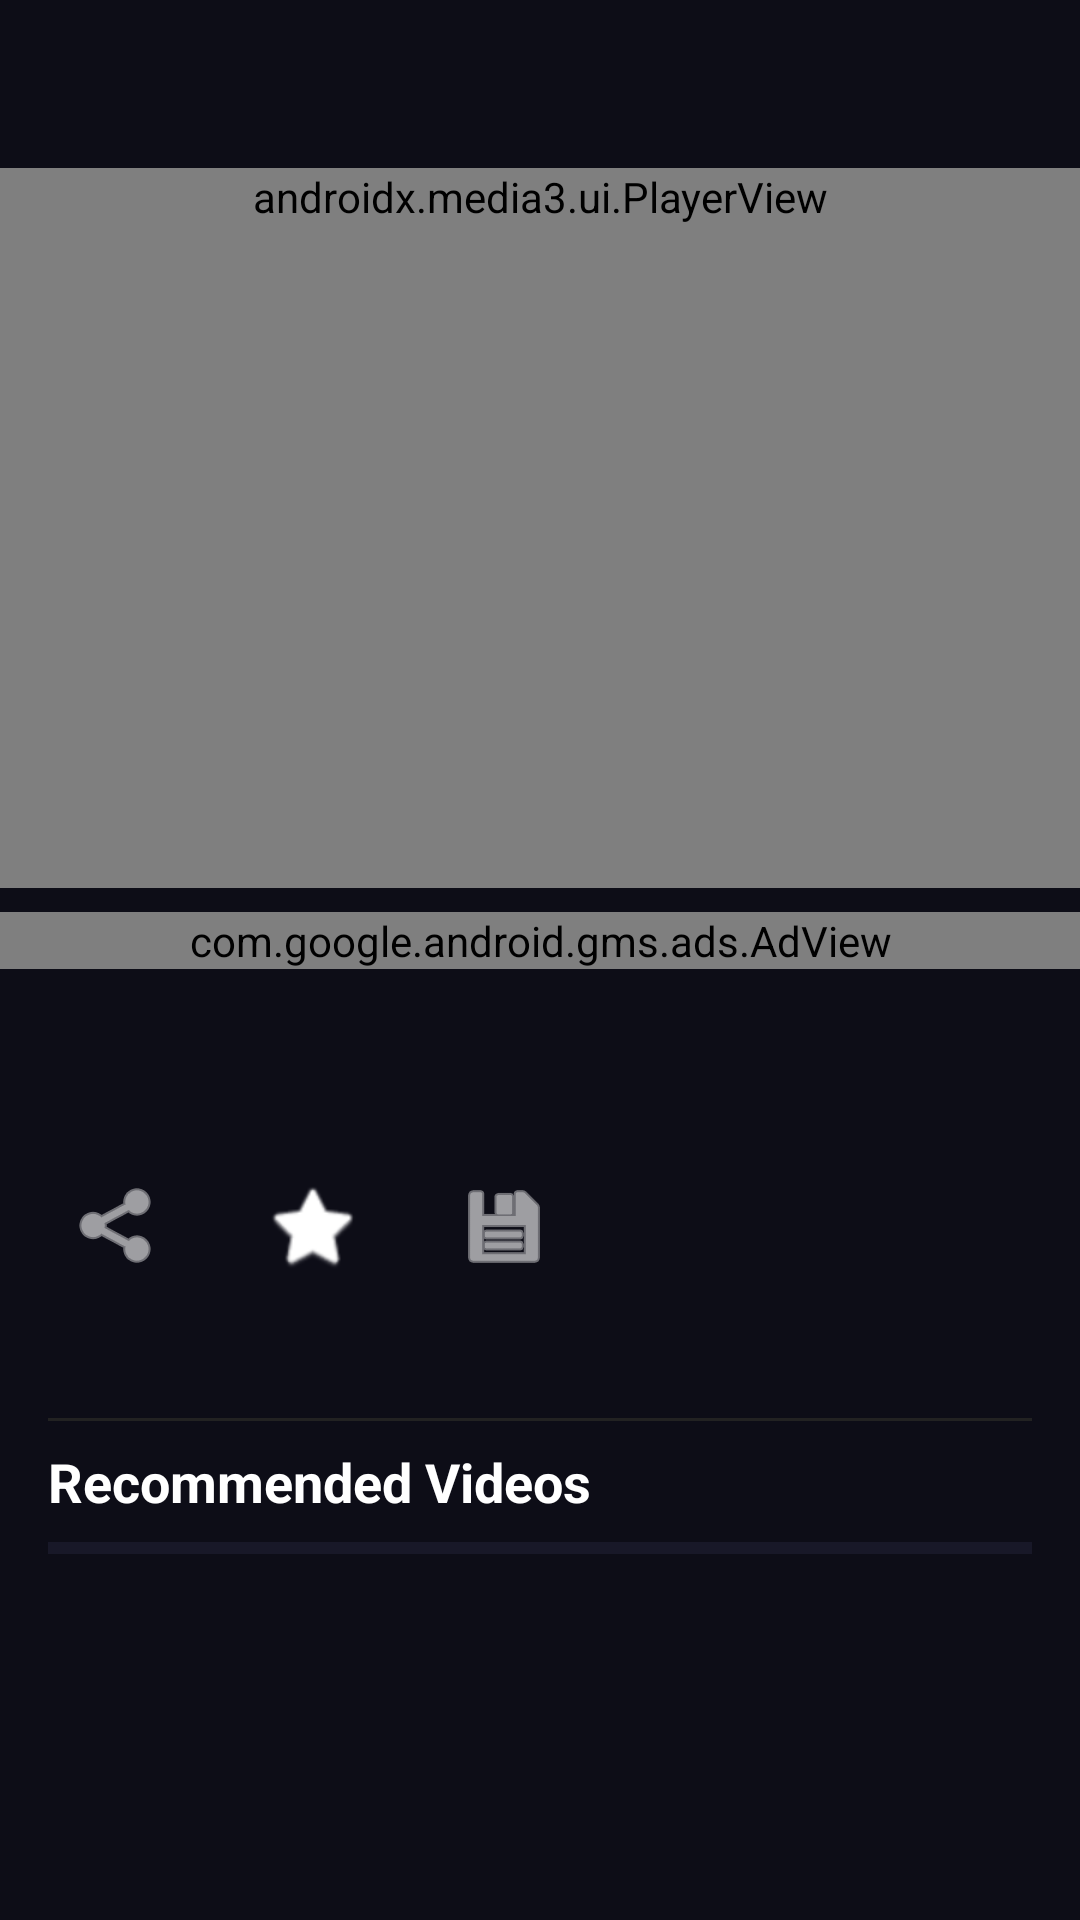

Where icons sit on this 1080px x 1920px app screen, as (x1, y1, x2, y2):
Share: (79, 1188, 151, 1263)
